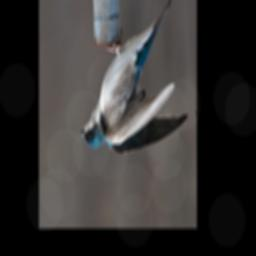Swallow: (71, 0, 191, 171)
